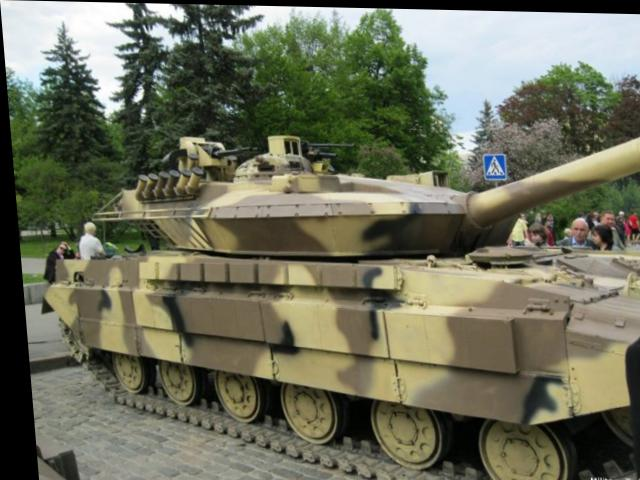other: (72, 217, 106, 256), (558, 216, 586, 245)
tank: (39, 123, 640, 469)
